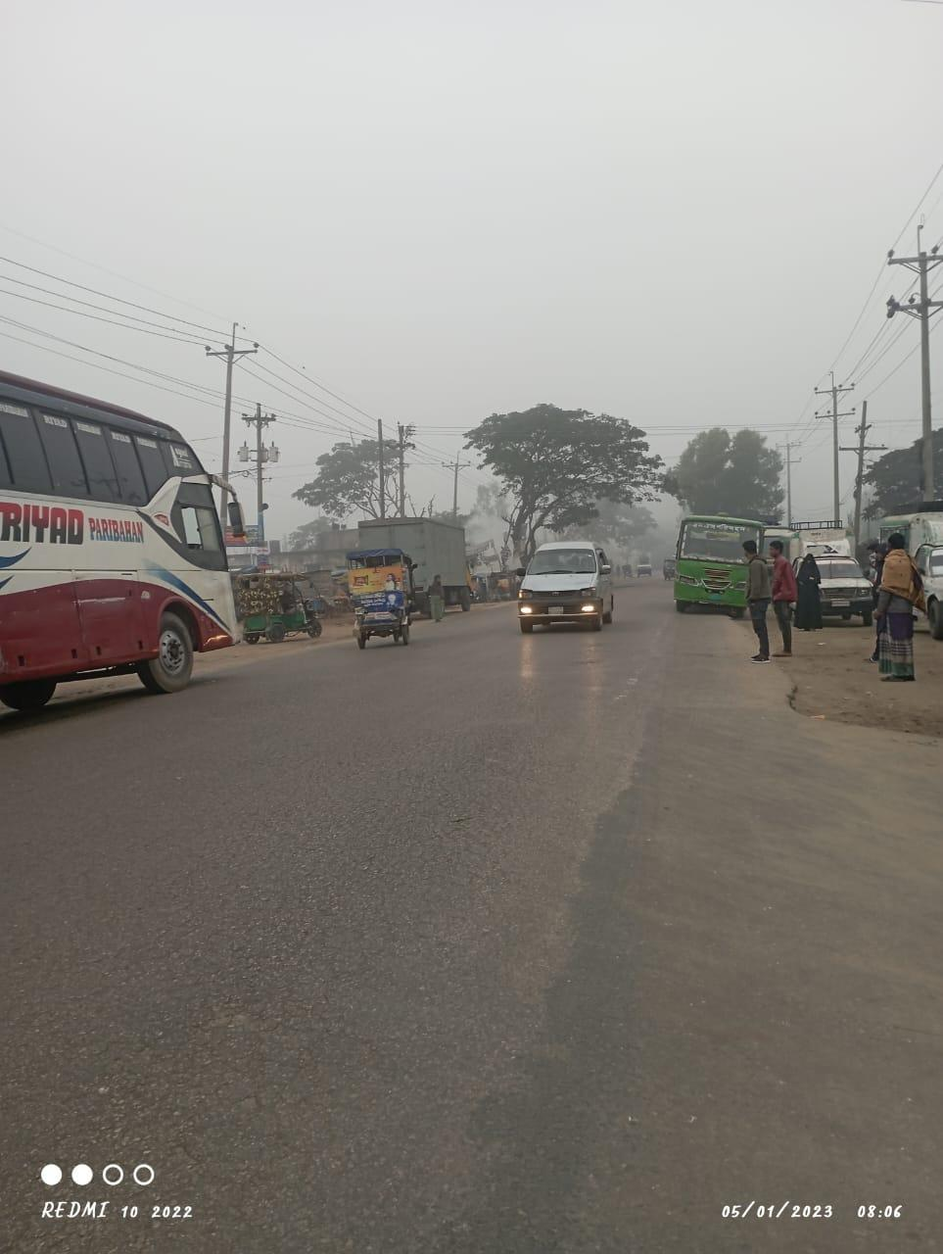Bus: (5, 360, 255, 695), (671, 502, 768, 623)
Car: (510, 540, 617, 638), (337, 536, 419, 655), (791, 517, 879, 624), (236, 561, 333, 643)
Truck: (361, 510, 482, 615)
